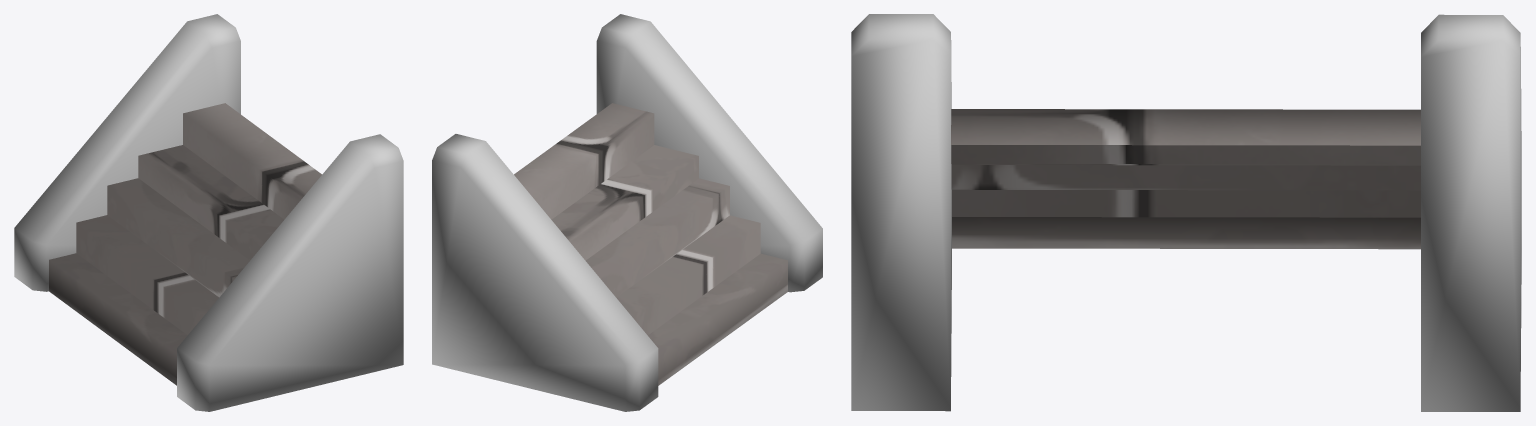
The model's file is Stairs_2.fbx.
3 renders of one model, left to right at view 1: azimuth 30°, elevation 25°; view 2: azimuth 150°, elevation 25°; view 3: azimuth 270°, elevation 25°, orthographic. The views are drawn at different scales.
Visible parts, largest first — view 1: Stairs_2; view 2: Stairs_2; view 3: Stairs_2.
Boxes of the visible parts, left/top/right/bottom form: Stairs_2: left=14, top=14, right=403, bottom=411; Stairs_2: left=432, top=14, right=822, bottom=411; Stairs_2: left=851, top=14, right=1521, bottom=411.
Bounding box in the file's own units: 1.2 × 1.2 × 1.96.
